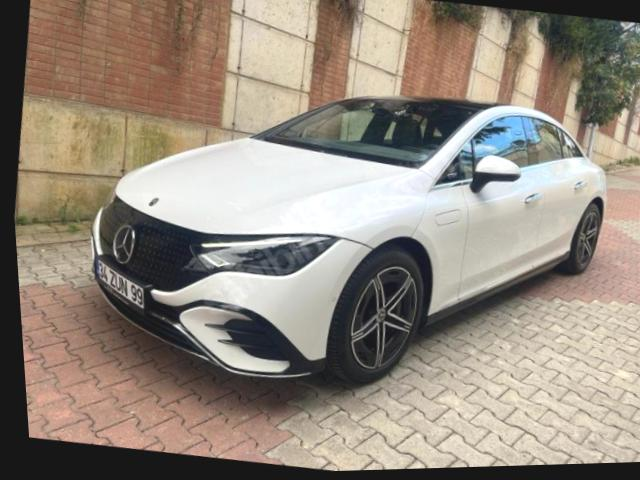plaka: (97, 260, 144, 307)
